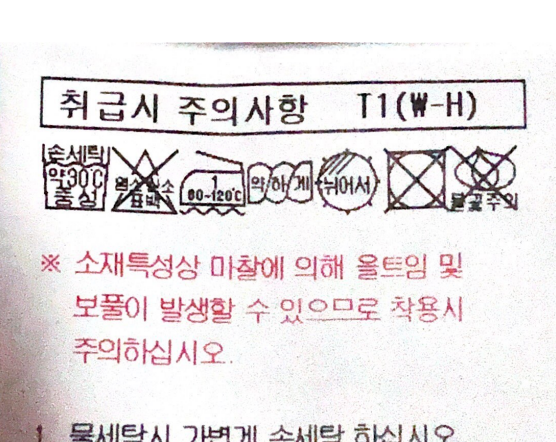KR_flat_dry_in_shade: (314, 141, 380, 212)
KR_gentle_wring: (246, 156, 316, 210)
KR_hand_wash_30_neutral: (37, 137, 109, 213)
KR_iron_low_temp_with_cloth: (178, 145, 247, 218)
KR_no_bleach: (109, 142, 181, 220)
KR_no_tumble_dry: (378, 145, 452, 215)
